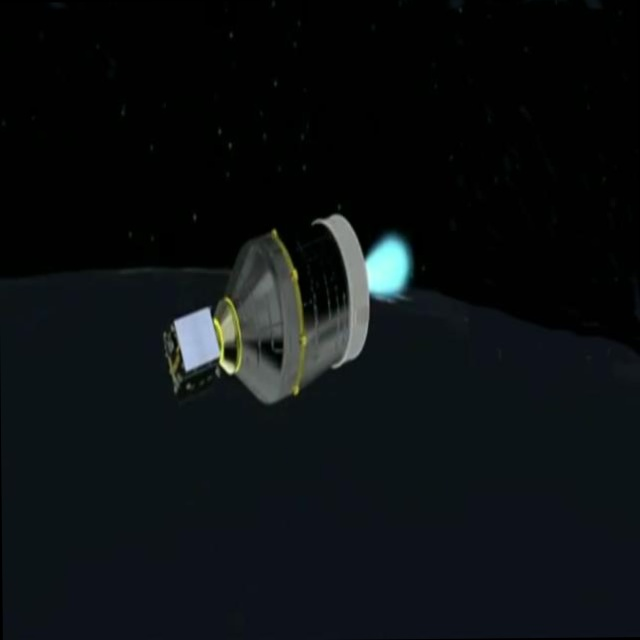medium_debris: (149, 169, 421, 455)
